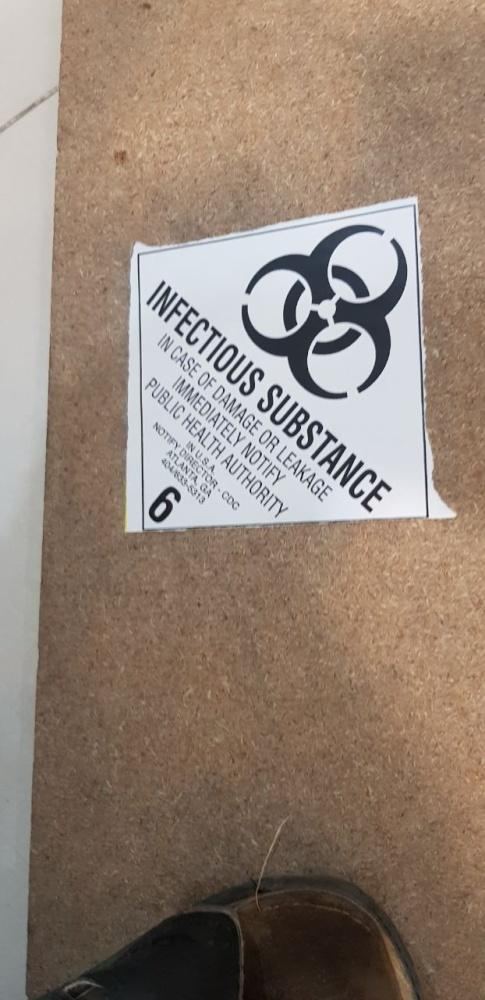infectious-substance: (135, 206, 419, 527)
